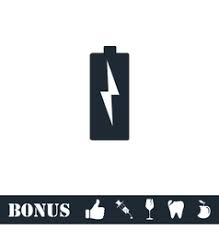charging sign: (76, 28, 156, 162)
